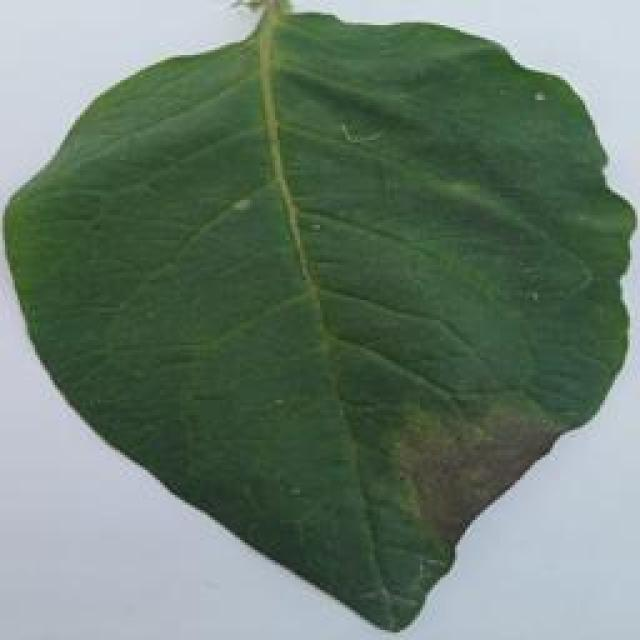Potato_Late_Blight: (7, 6, 625, 632)
